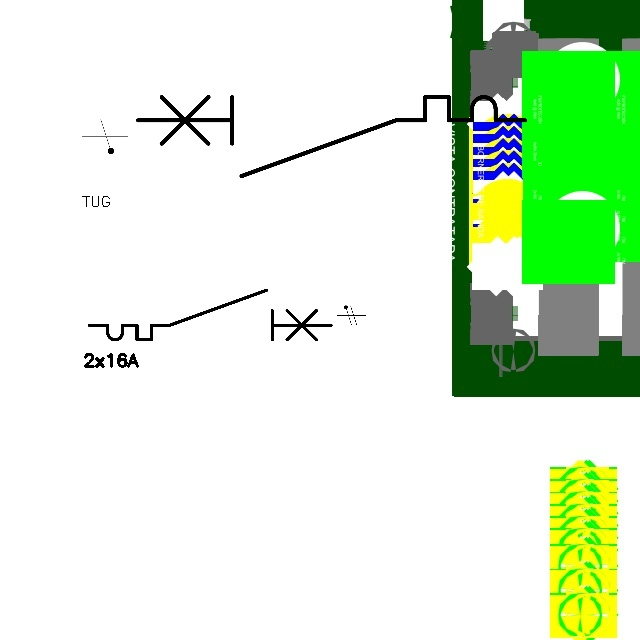interruptor_termomagnetico: (128, 87, 535, 186), (83, 284, 337, 346)
